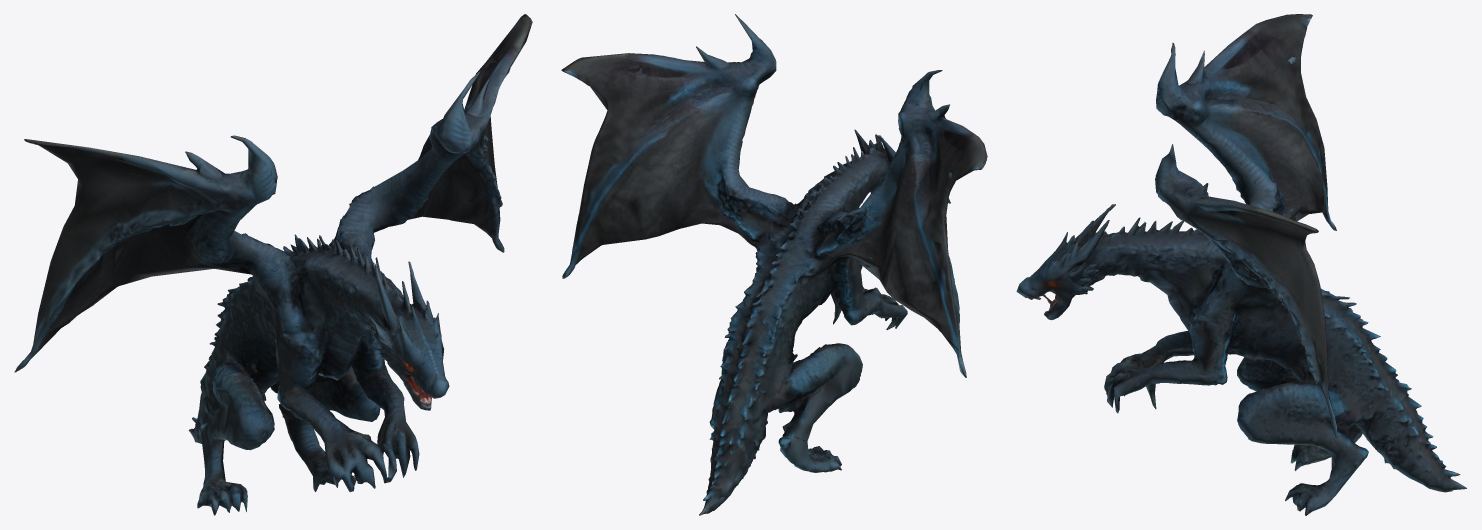
Rendered from tower_aa_opt.glb.
The picture shows the model from 3 angles, left to right: view 1: azimuth 30°, elevation 25°; view 2: azimuth 150°, elevation 25°; view 3: azimuth 270°, elevation 25°; orthographic projection. The views are drawn at different scales.
Bounding box in the file's own units: 2 × 1.73 × 1.77.
1 material, 1 textured.
